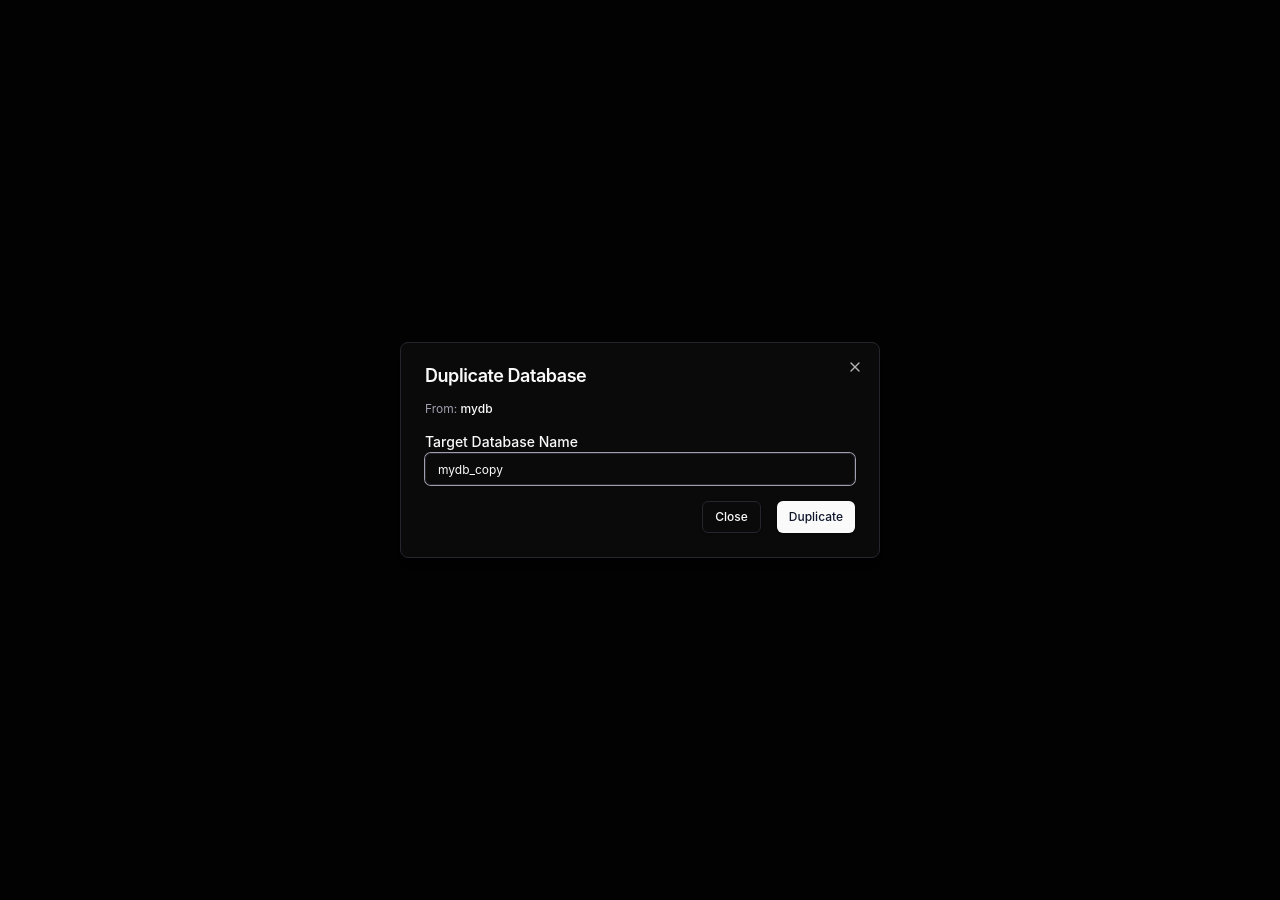
Test: allows retry after failure
This screenshot has width=1280, height=900.
Click the button "Duplicate" at (816, 517), box [777,501,855,533]
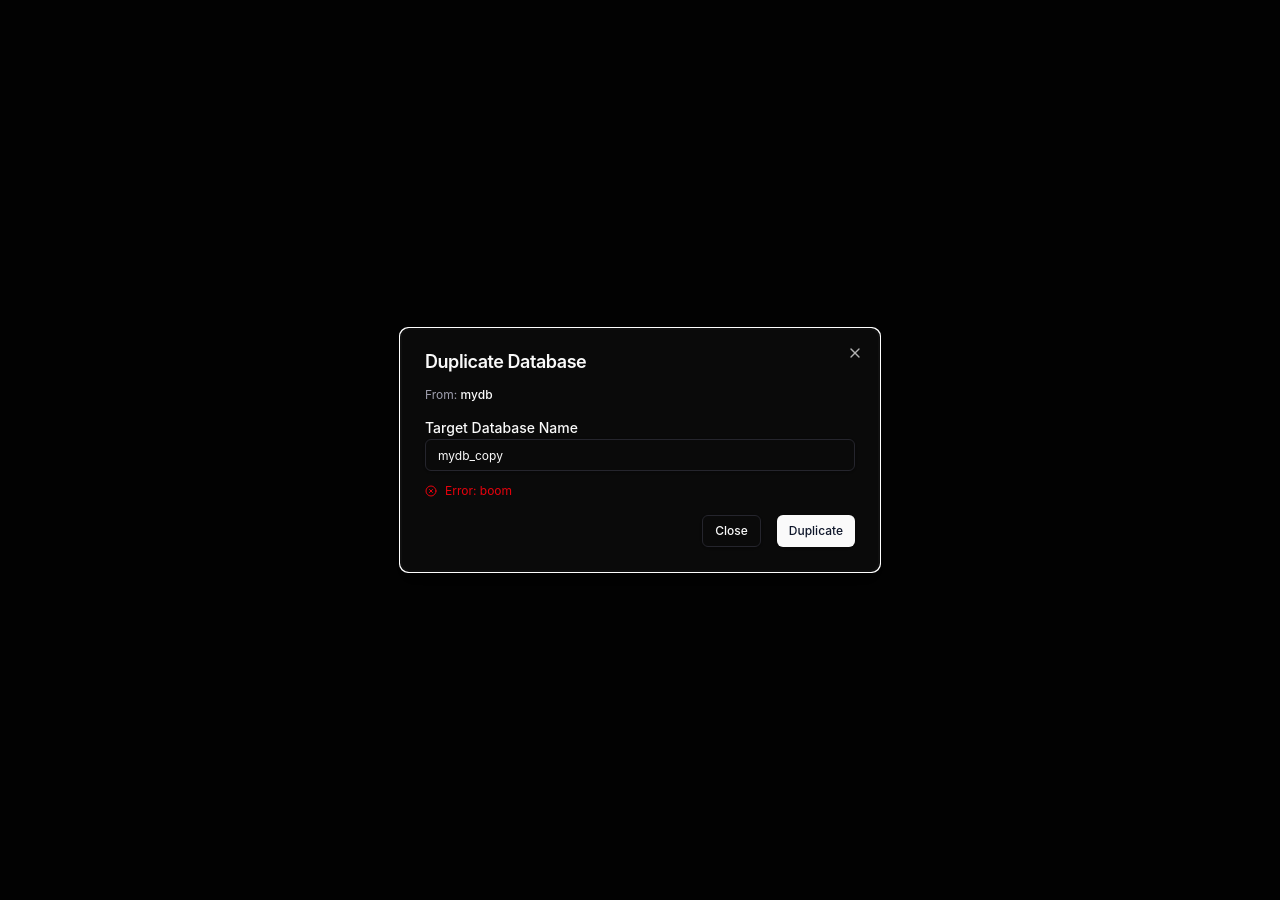
Result: the text "Error: boom" is shown at [445,483,512,499]
Click the button "Duplicate" at (816, 531), box [777,515,855,547]
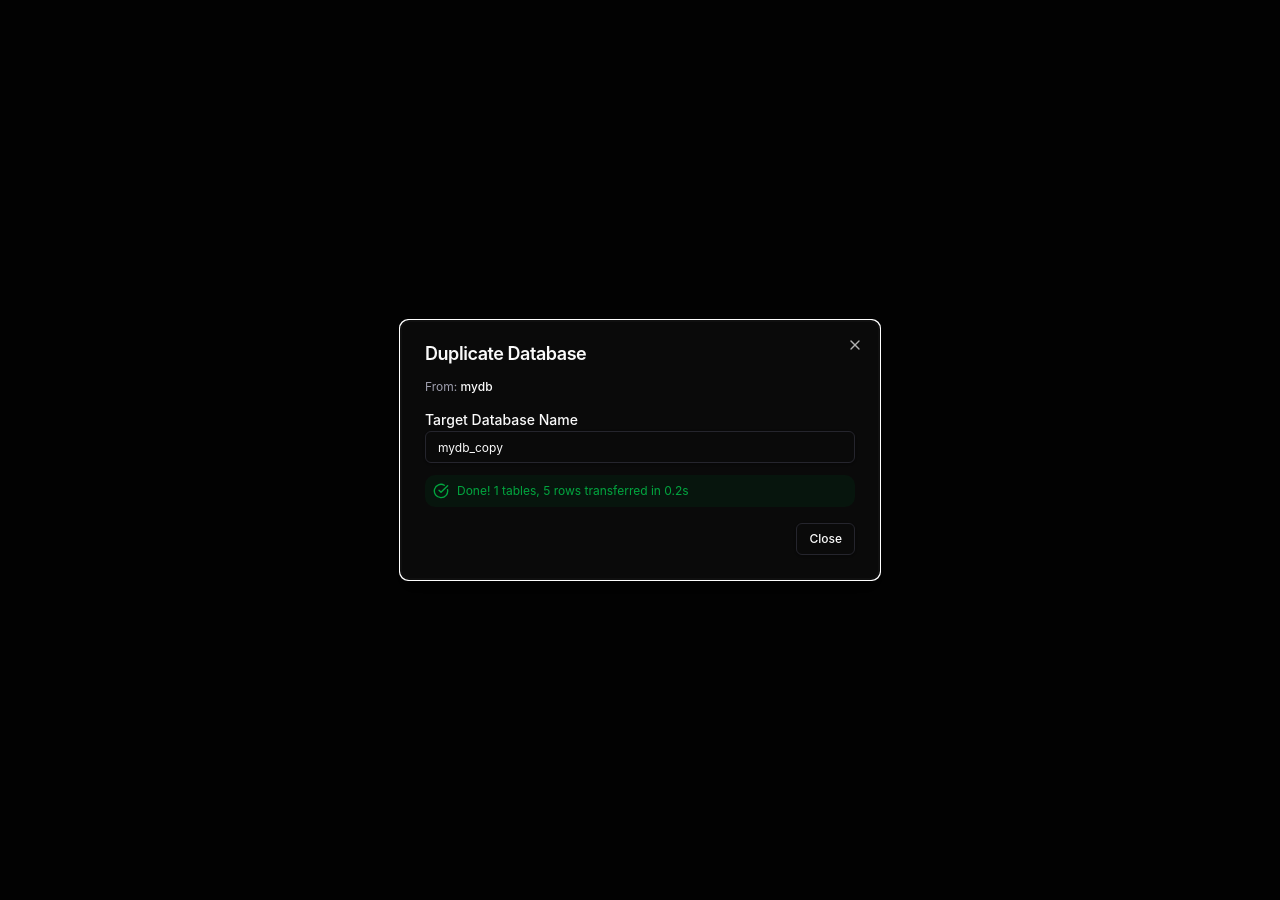
Result: the text "Done! 1 tables, 5 rows transferred in 0.2s" is shown at [425,475,855,507]
